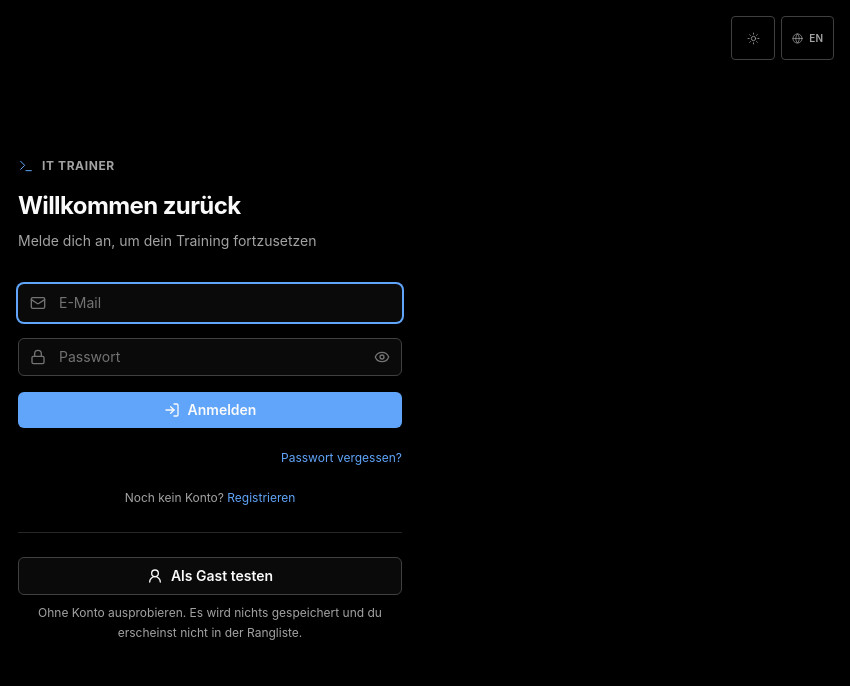
Test: WelcomeScreen › login › shows the backend error when login fails
The image size is (850, 686).
Type "alice@example.com" into the field labelled "E-Mail" at (210, 303), box left=18, top=284, right=402, bottom=322
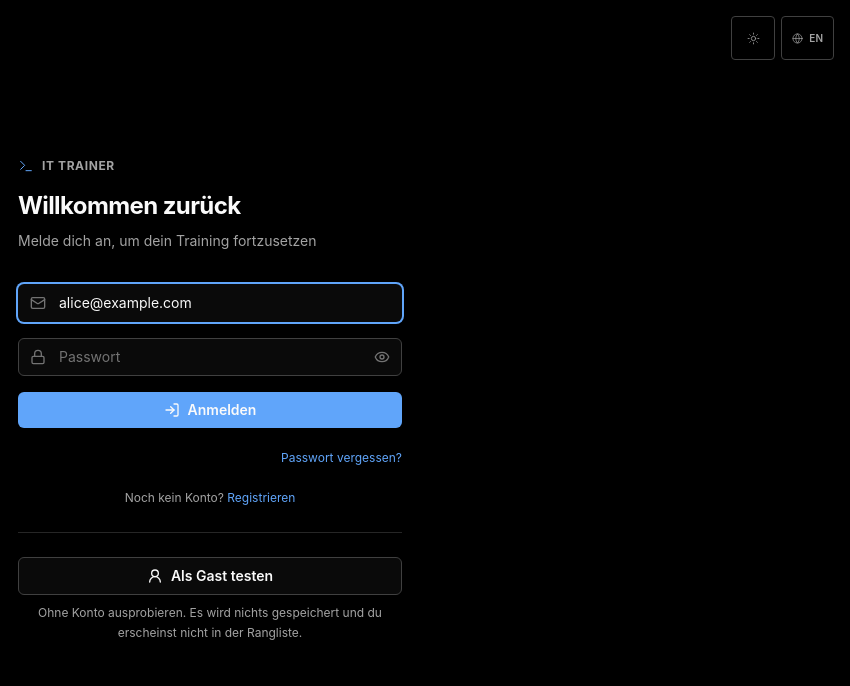
Type "wrong" into the password field labelled "Passwort" at (210, 357), box left=18, top=338, right=402, bottom=376
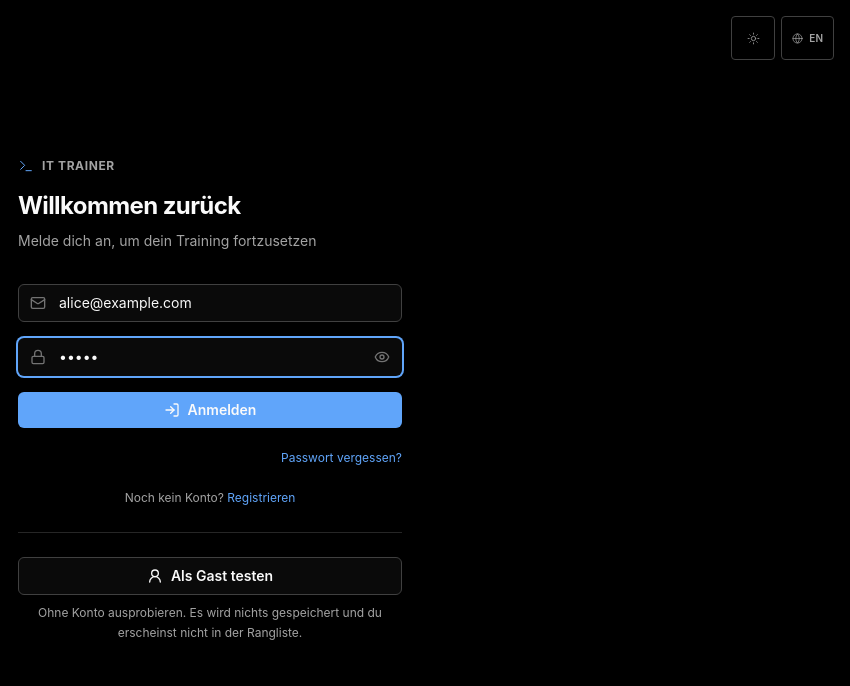
Click the button "Anmelden" at (210, 410), box left=18, top=392, right=402, bottom=428
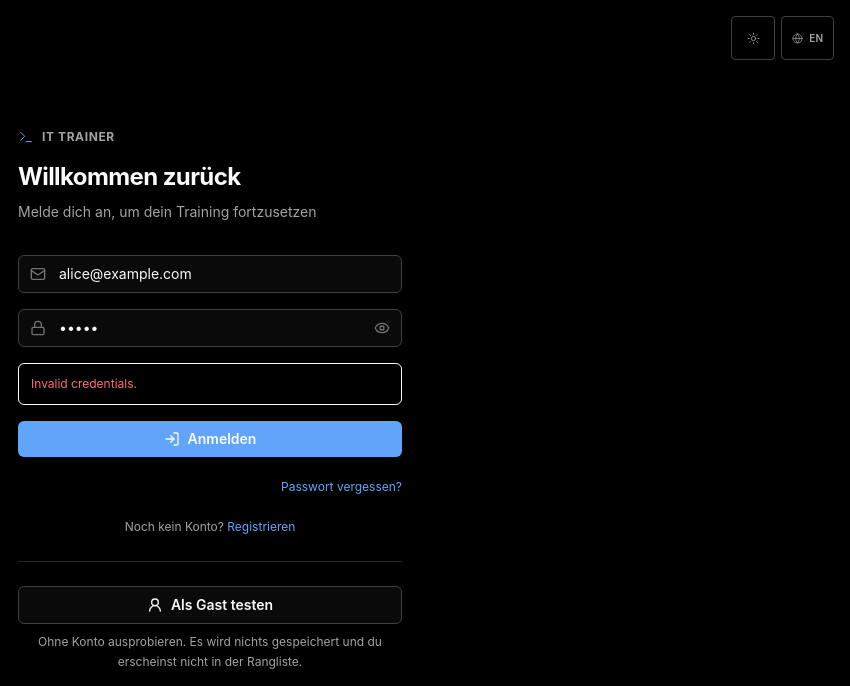
Expected: the message reads "Invalid credentials.", left=31, top=376, right=137, bottom=391
